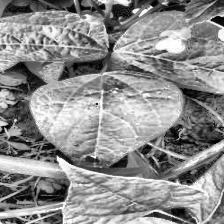ALS: (34, 69, 183, 169), (109, 9, 224, 101)
